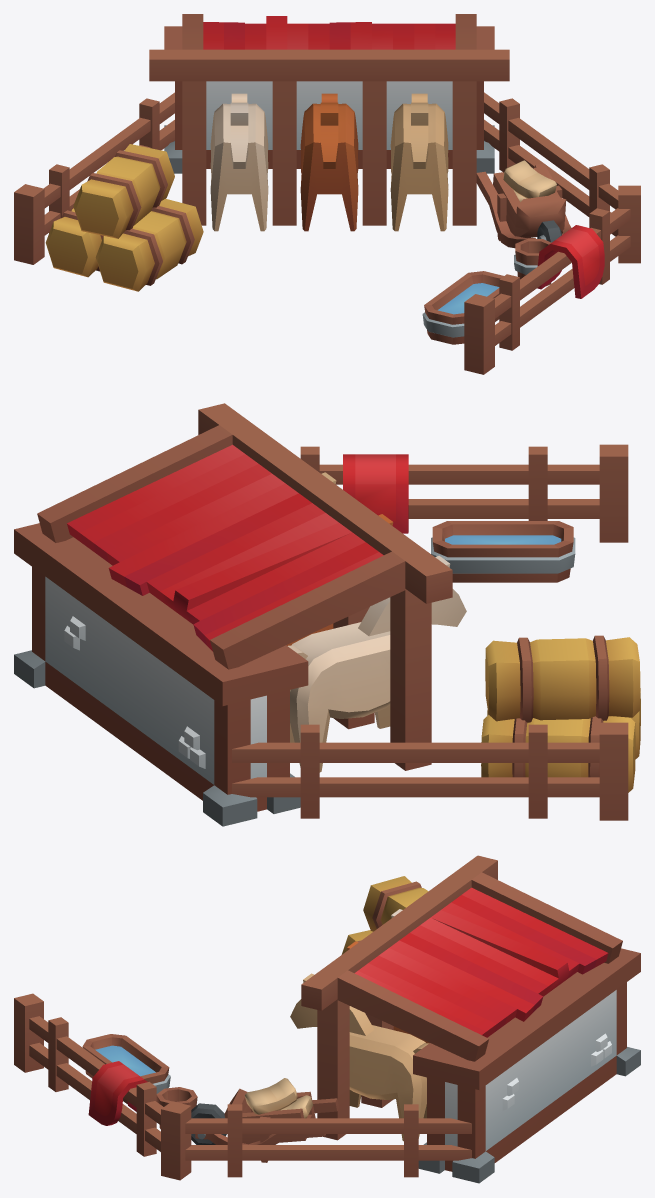
The model's file is stables.glb.
3 views of the same model, one above another, from view 1: azimuth 30°, elevation 25°; view 2: azimuth 150°, elevation 25°; view 3: azimuth 270°, elevation 25° (orthographic). The views are drawn at different scales.
Parts seen in each view (by area): view 1: stables; view 2: stables; view 3: stables.
Part boxes in pixels (box(x1,y1,x2,y2)): stables: box(14, 14, 640, 374); stables: box(14, 403, 640, 826); stables: box(14, 855, 640, 1183).
Bounding box in the file's own units: 0.9293 × 0.3057 × 1.07.
Materials: 1 (1 with a texture image).
